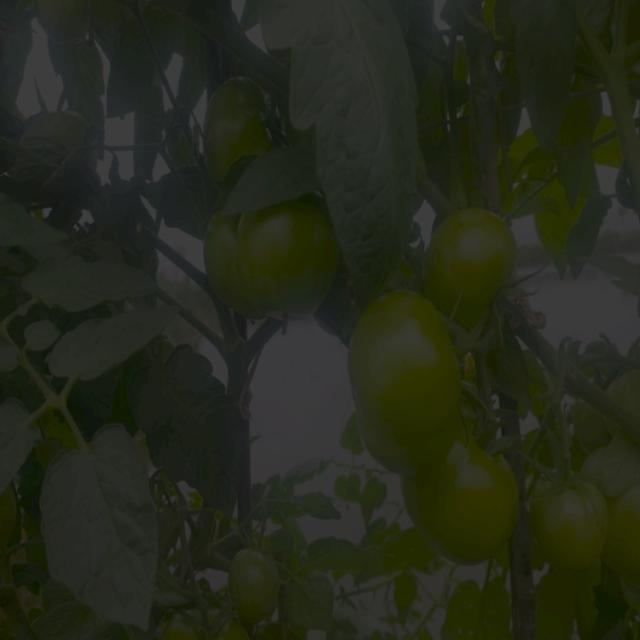tomato: (351, 297, 468, 456), (394, 435, 520, 565), (216, 212, 345, 329), (424, 203, 528, 313), (534, 473, 603, 573), (201, 77, 278, 166), (237, 541, 288, 627), (601, 489, 640, 580), (156, 611, 243, 640), (20, 108, 83, 139), (612, 364, 640, 415)
